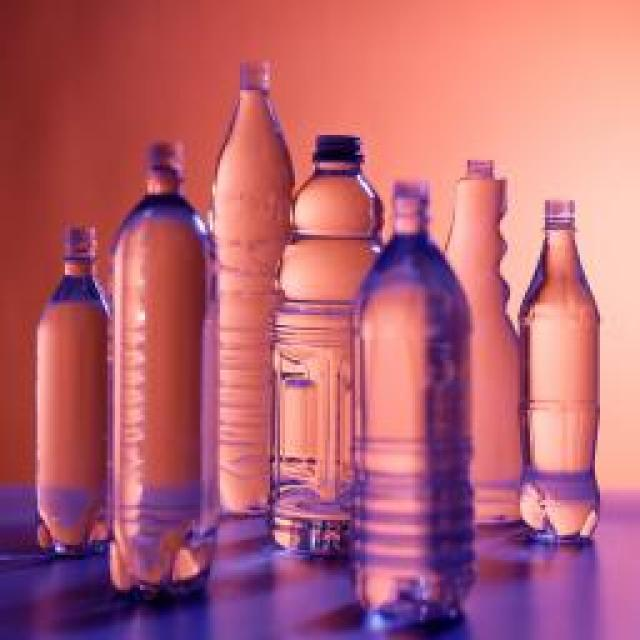bottle: (354, 183, 474, 607), (107, 135, 217, 590), (267, 137, 385, 550), (217, 62, 292, 520), (523, 202, 602, 542), (38, 229, 105, 554)
